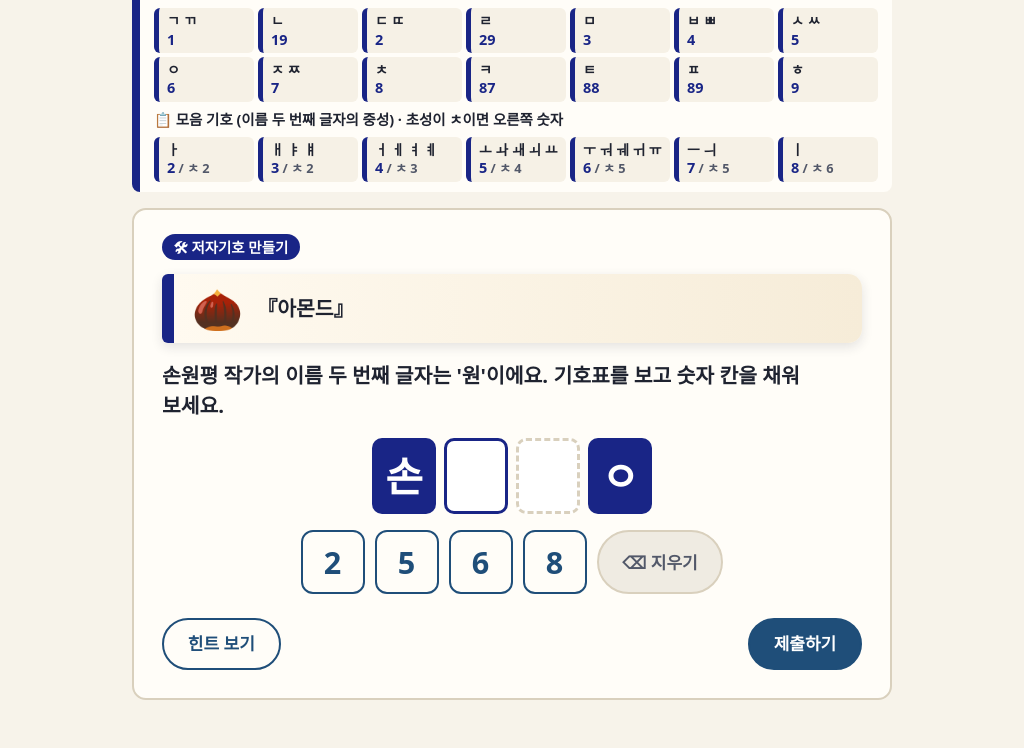
it: 게임 3단계: 저자기호 만들기 › 기호표를 보며 숫자 카드로 저자기호를 만든다 (손원평 『아몬드』 → 손66ㅇ)
The width and height of the screenshot is (1024, 748).
(page scrolled)
expect the text "🛠 저자기호 만들기" is shown: met, box [162,234,300,260]
Click the button named "숫자 6": x=480, y=562 [448,530,512,594]
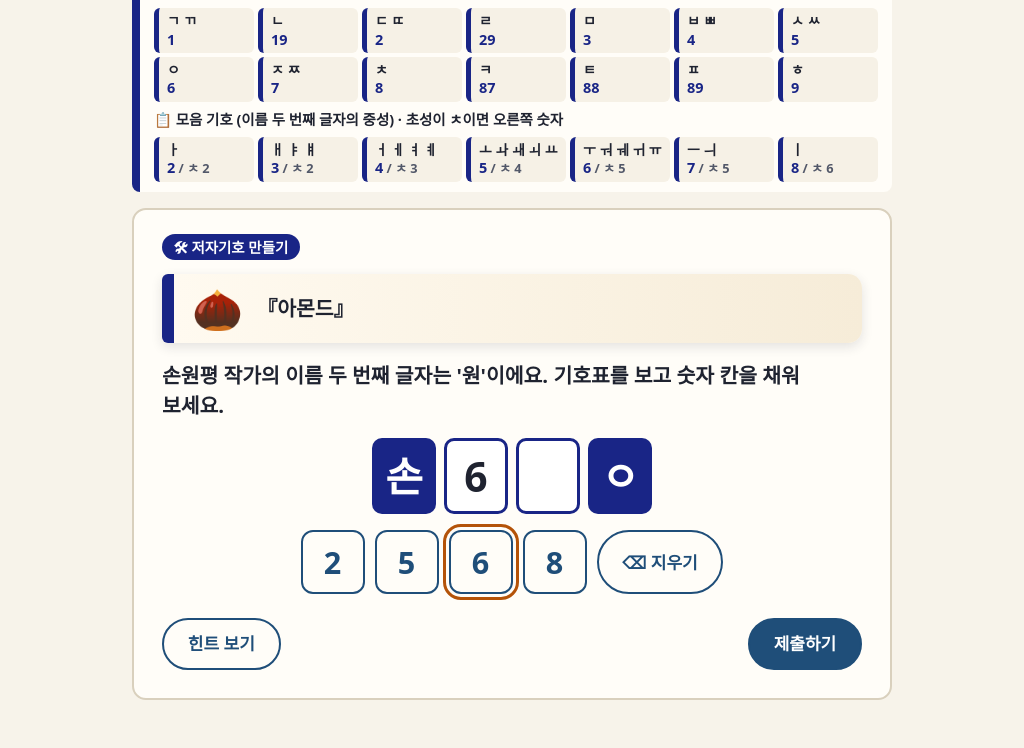
Click the button named "숫자 6": x=480, y=562 [448,530,512,594]
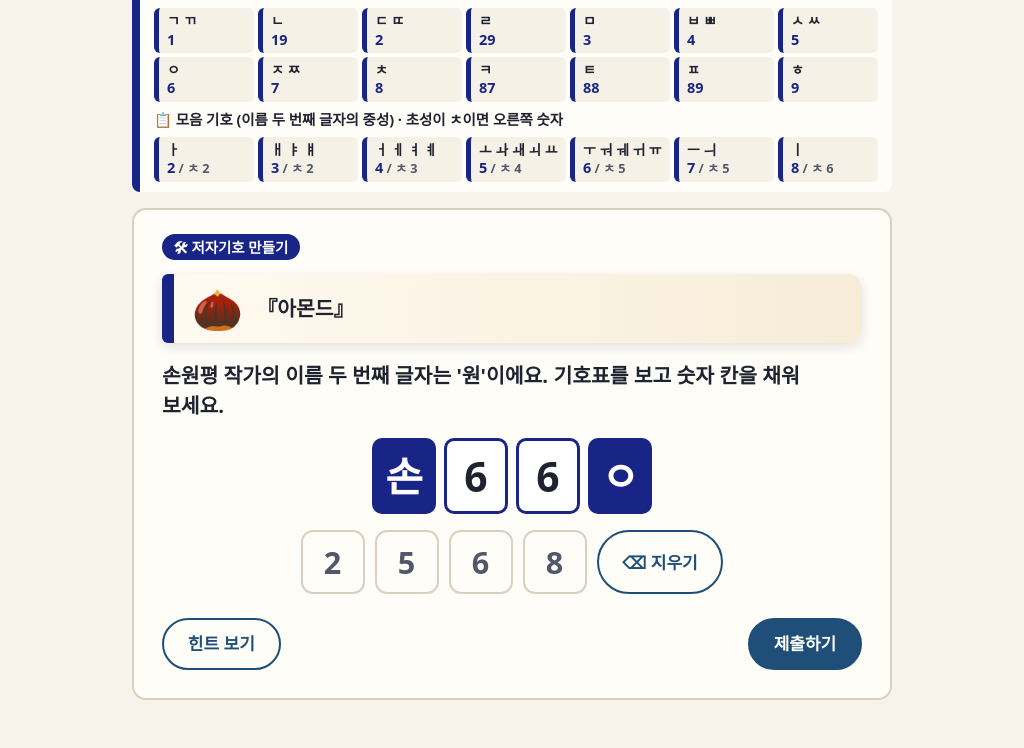
Click the button "제출하기": x=805, y=644 [748,618,862,670]
(page scrolled)
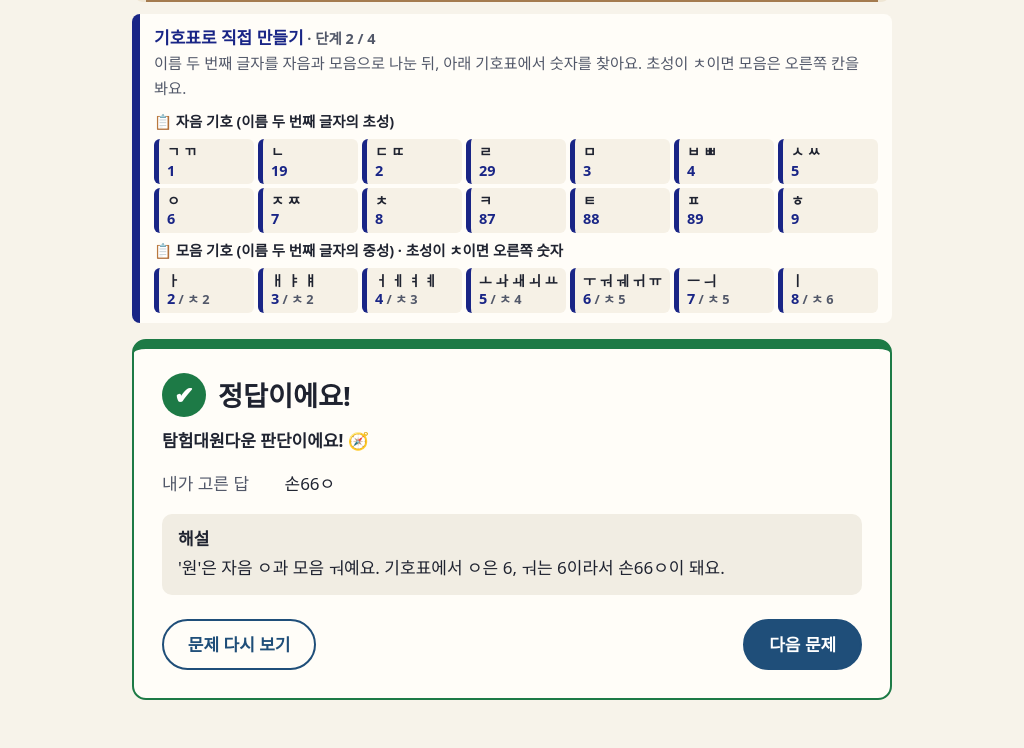
expect the heading "✔ 정답이에요!" is shown: met, box [162,373,351,417]
